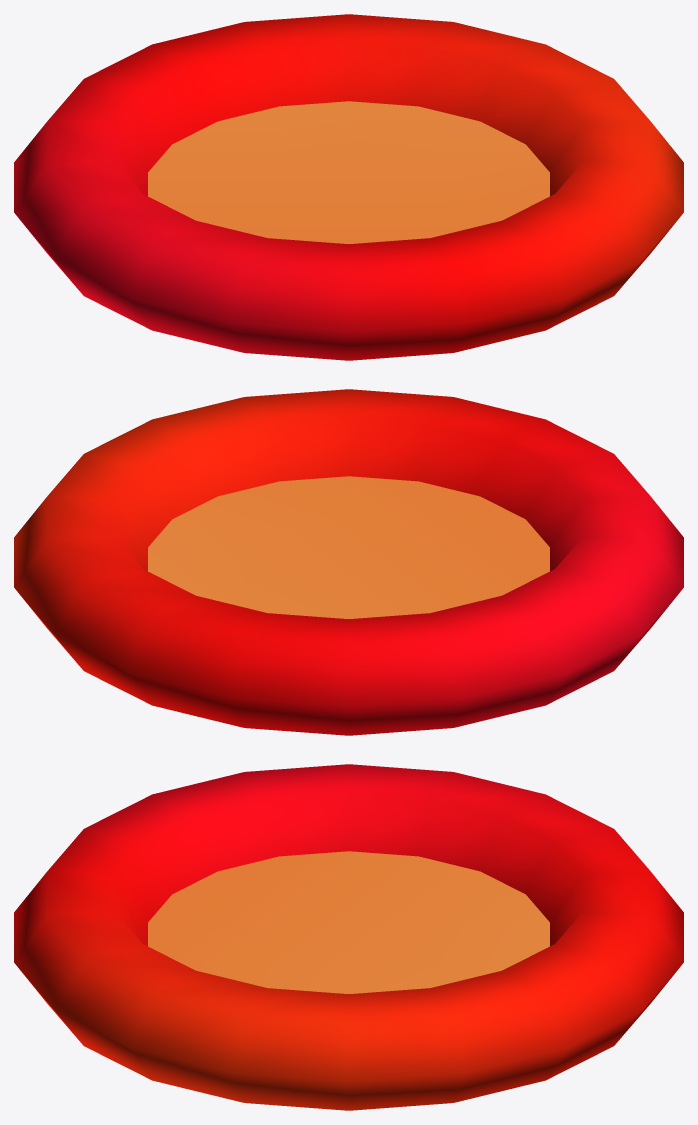
Rendered from Platform_Fire.fbx.
3 renders of one model, top to bottom at view 1: azimuth 30°, elevation 25°; view 2: azimuth 150°, elevation 25°; view 3: azimuth 270°, elevation 25°, orthographic.
Visible parts, largest first — view 1: Fire_Base; view 2: Fire_Base; view 3: Fire_Base.
Part boxes in pixels (bbox=[...]): Fire_Base: bbox=[14, 14, 683, 360]; Fire_Base: bbox=[14, 389, 683, 735]; Fire_Base: bbox=[14, 764, 683, 1110].
Bounding box in the file's own units: 2.71 × 0.3861 × 2.67.
Materials: 1 (1 with a texture image).
